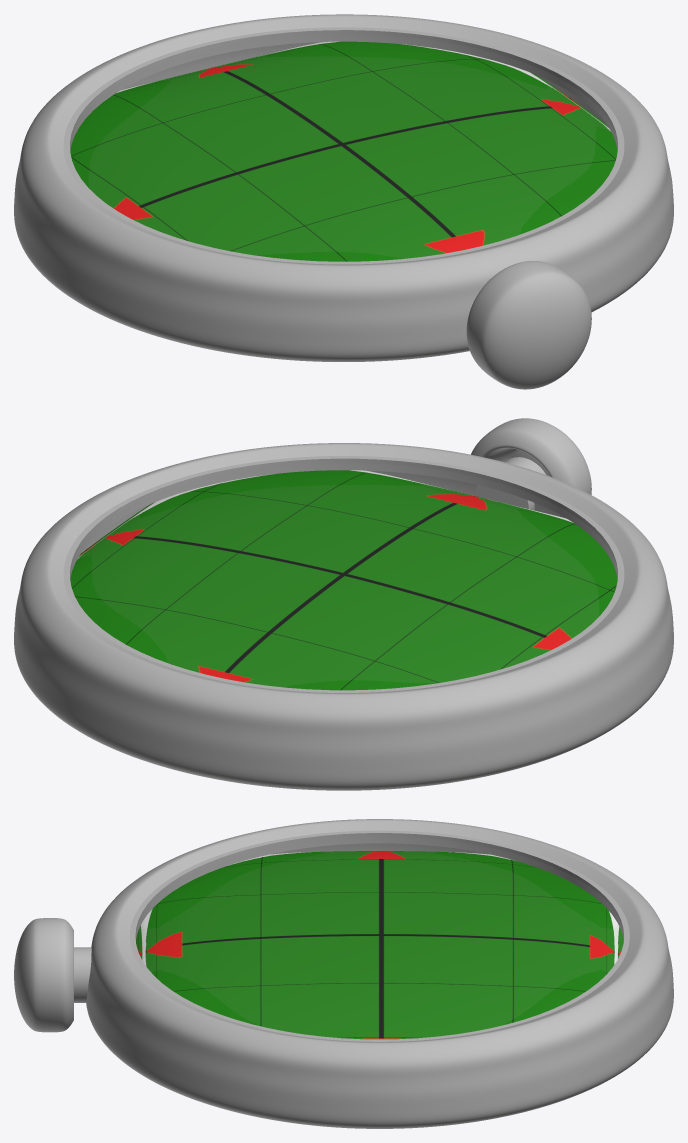
The model's file is DragonRadar.fbx.
The picture shows the model from 3 angles, top to bottom: view 1: azimuth 30°, elevation 25°; view 2: azimuth 150°, elevation 25°; view 3: azimuth 270°, elevation 25°; orthographic projection. The views are drawn at different scales.
Visible parts, largest first — view 1: pCube1, pCylinder2, pSphere2, pSphere3, pPipe1; view 2: pCube1, pSphere2, pCylinder2, pPipe1, pSphere3, pCylinder1; view 3: pCube1, pSphere2, pCylinder2, pPipe1, pSphere3, pCylinder1.
Part boxes in pixels (x1,y1,x2,y2): pCube1: (70,41,617,261); pCylinder2: (89,42,609,258); pSphere2: (14,14,673,361); pSphere3: (466,261,591,389); pPipe1: (63,27,624,264); pCube1: (70,470,617,690); pSphere2: (14,443,673,790); pCylinder2: (77,471,598,686); pPipe1: (63,456,624,692); pSphere3: (471,418,591,494); pCylinder1: (474,457,545,510); pCube1: (136,851,623,1039); pSphere2: (86,819,673,1128); pCylinder2: (136,843,623,1038); pPipe1: (129,830,629,1041); pSphere3: (14,918,73,1032); pCylinder1: (74,947,91,1002).
Size of what is drawn, in the model's own units: 9.55 by 2.21 by 10.71.
